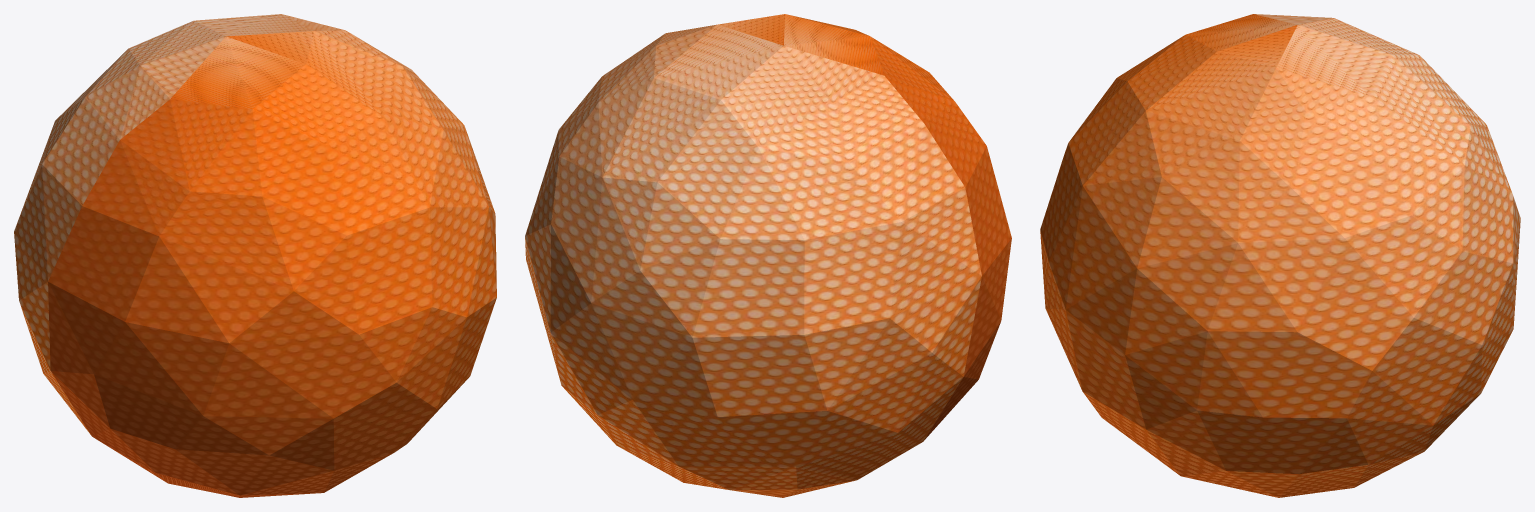
The model's file is unit_sphere_lower_poly.obj.
3 views of the same model, side by side, from view 1: azimuth 30°, elevation 25°; view 2: azimuth 150°, elevation 25°; view 3: azimuth 270°, elevation 25° (orthographic).
Visible parts, largest first — view 1: Sphere; view 2: Sphere; view 3: Sphere.
Part boxes in pixels (x1=…): Sphere: x1=14, y1=14, x2=496, y2=497; Sphere: x1=525, y1=14, x2=1011, y2=497; Sphere: x1=1040, y1=14, x2=1520, y2=497.
Size of the model in its own units: 2.01 by 2 by 1.99.
Materials: 1 (1 with a texture image).
